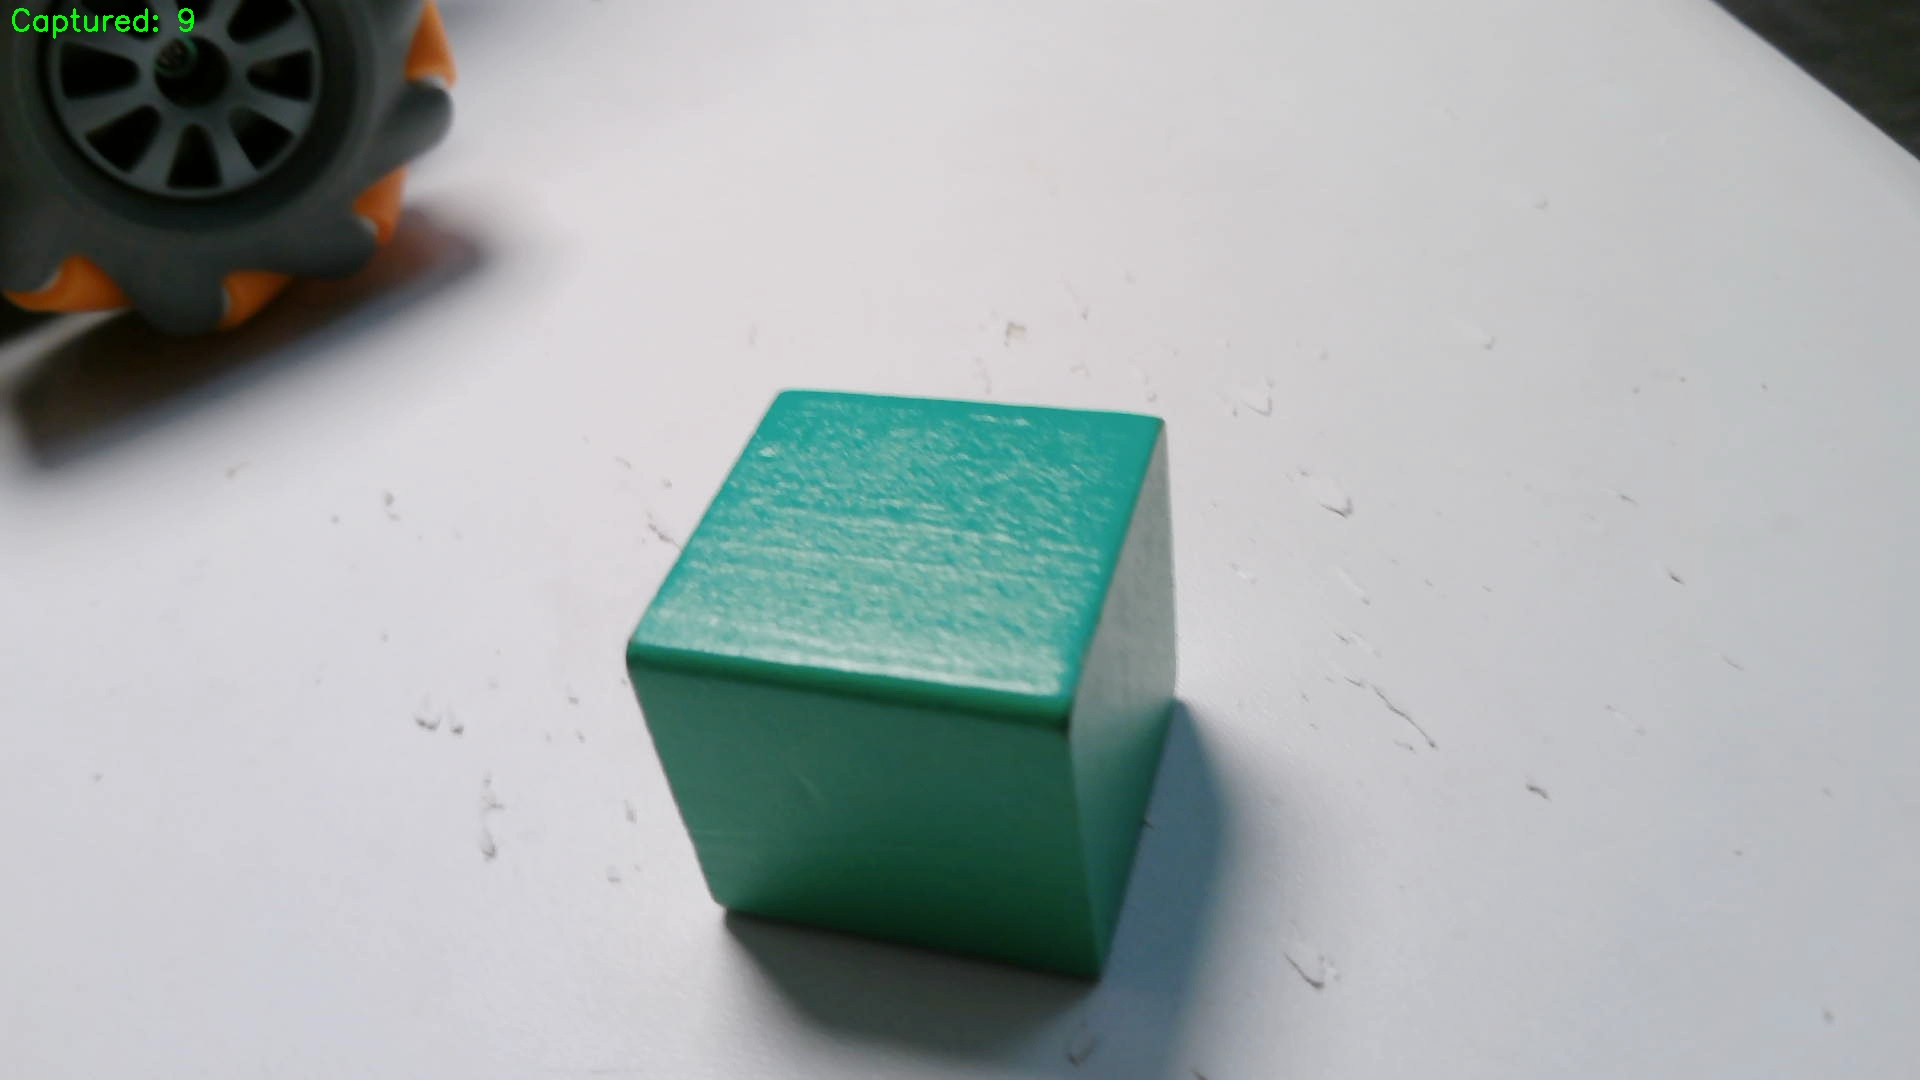green: (626, 385, 1182, 982)
